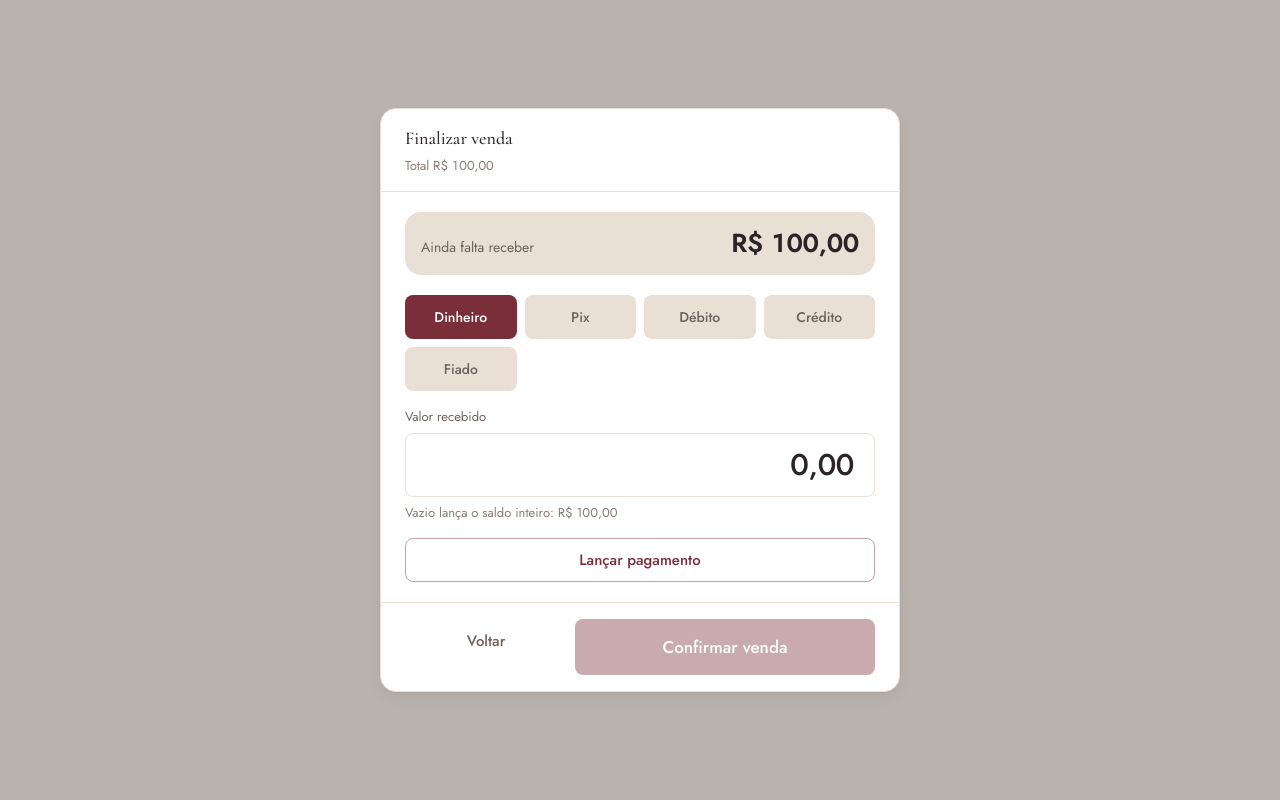
Test: limite do fiado › mostra o que a cliente pode levar, já descontado o que deve
Click the button "Fiado" at (461, 369), box top-left (405, 347), bottom-right (516, 391)
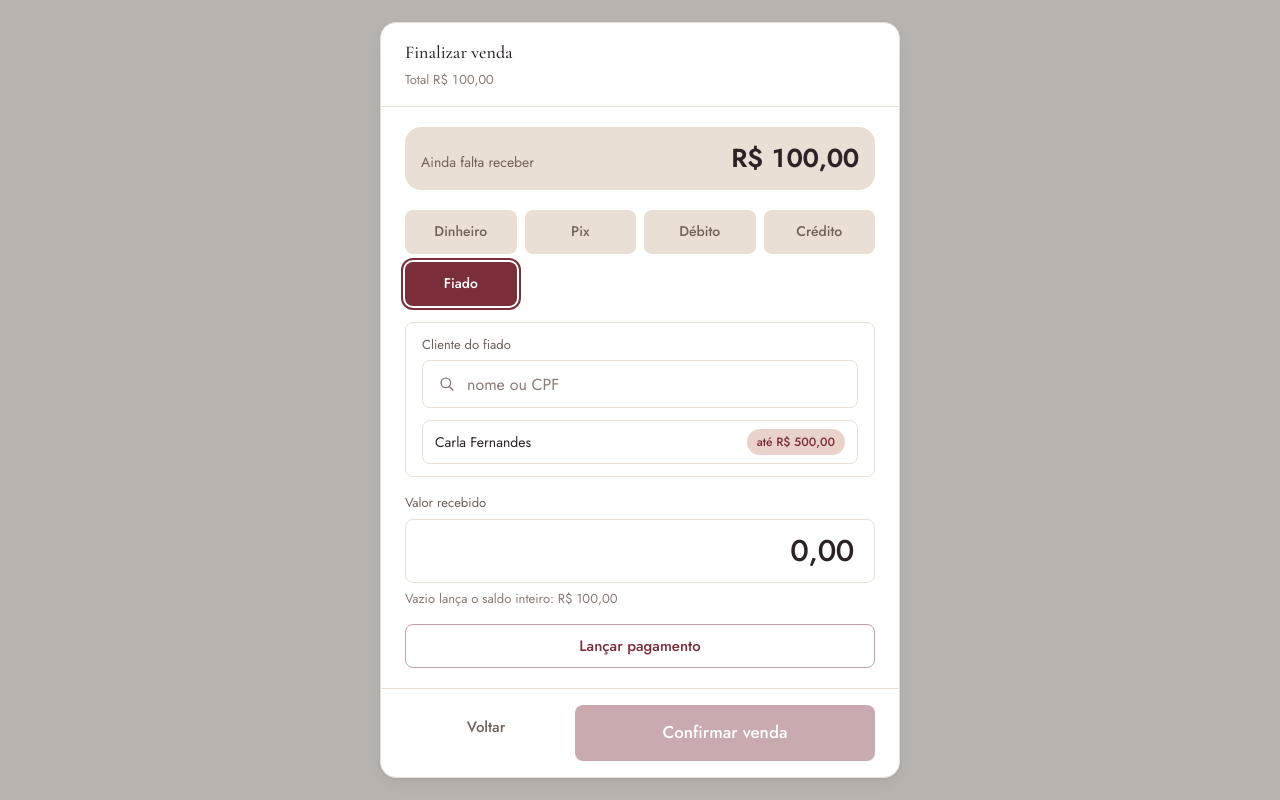
Check: the button "Carla Fernandes até R$ 500,00" is shown
Click the button "Carla Fernandes até R$ 500,00" at (483, 442), box top-left (423, 421), bottom-right (857, 463)
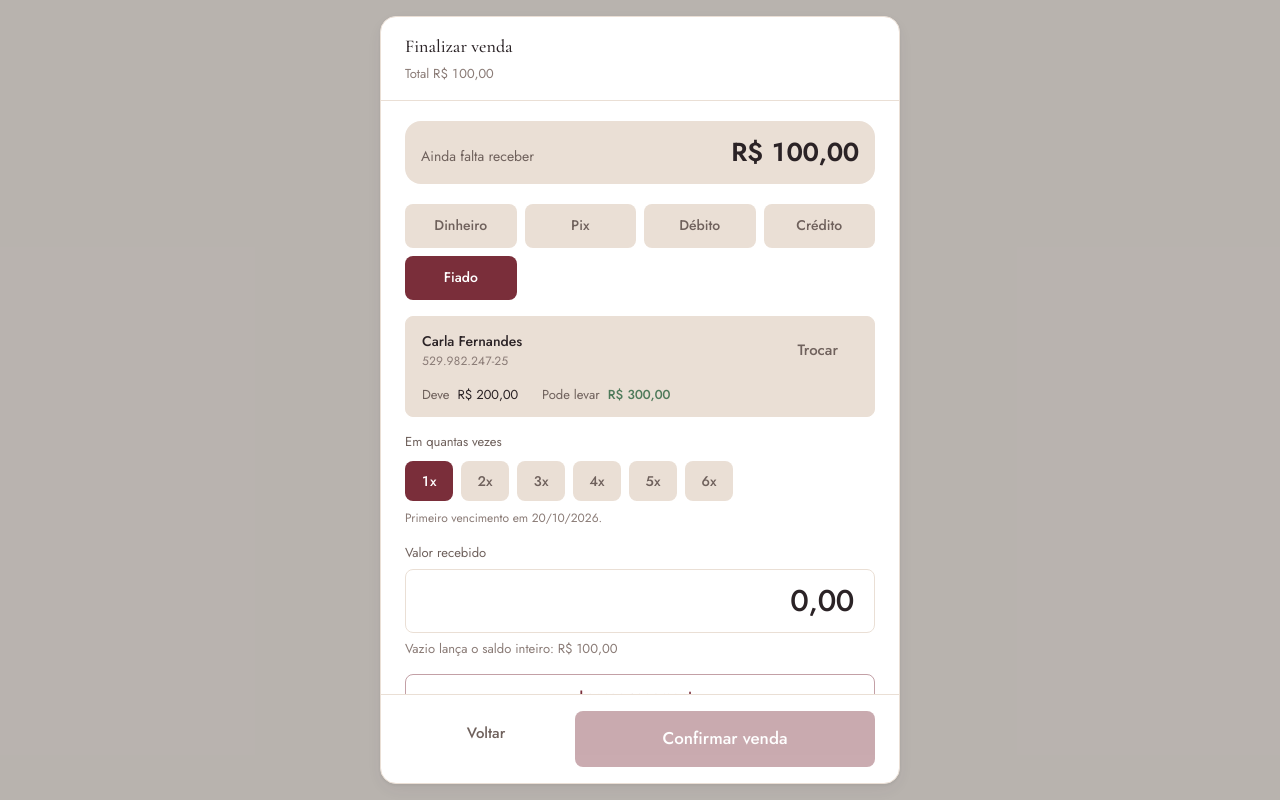
Check: the text with test id "limite-disponivel-venda" reads "R$ 300,00", box top-left (608, 384), bottom-right (670, 404)
